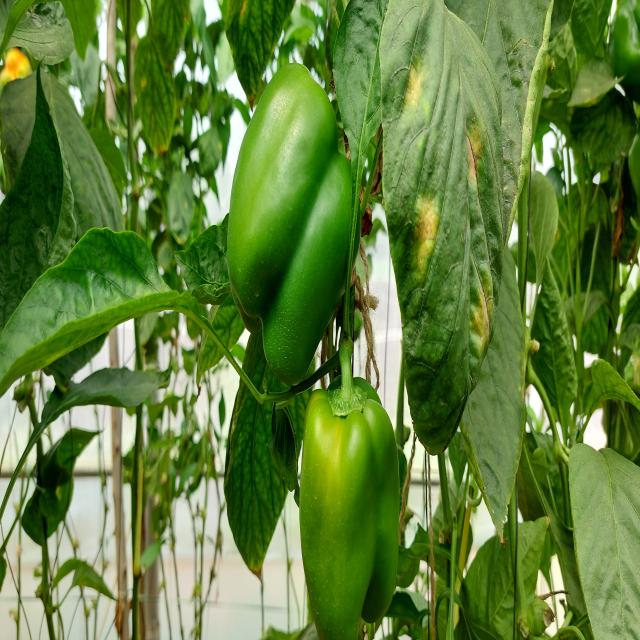Green--Not-ready-to-harvest: (227, 58, 364, 384), (304, 387, 394, 640)
